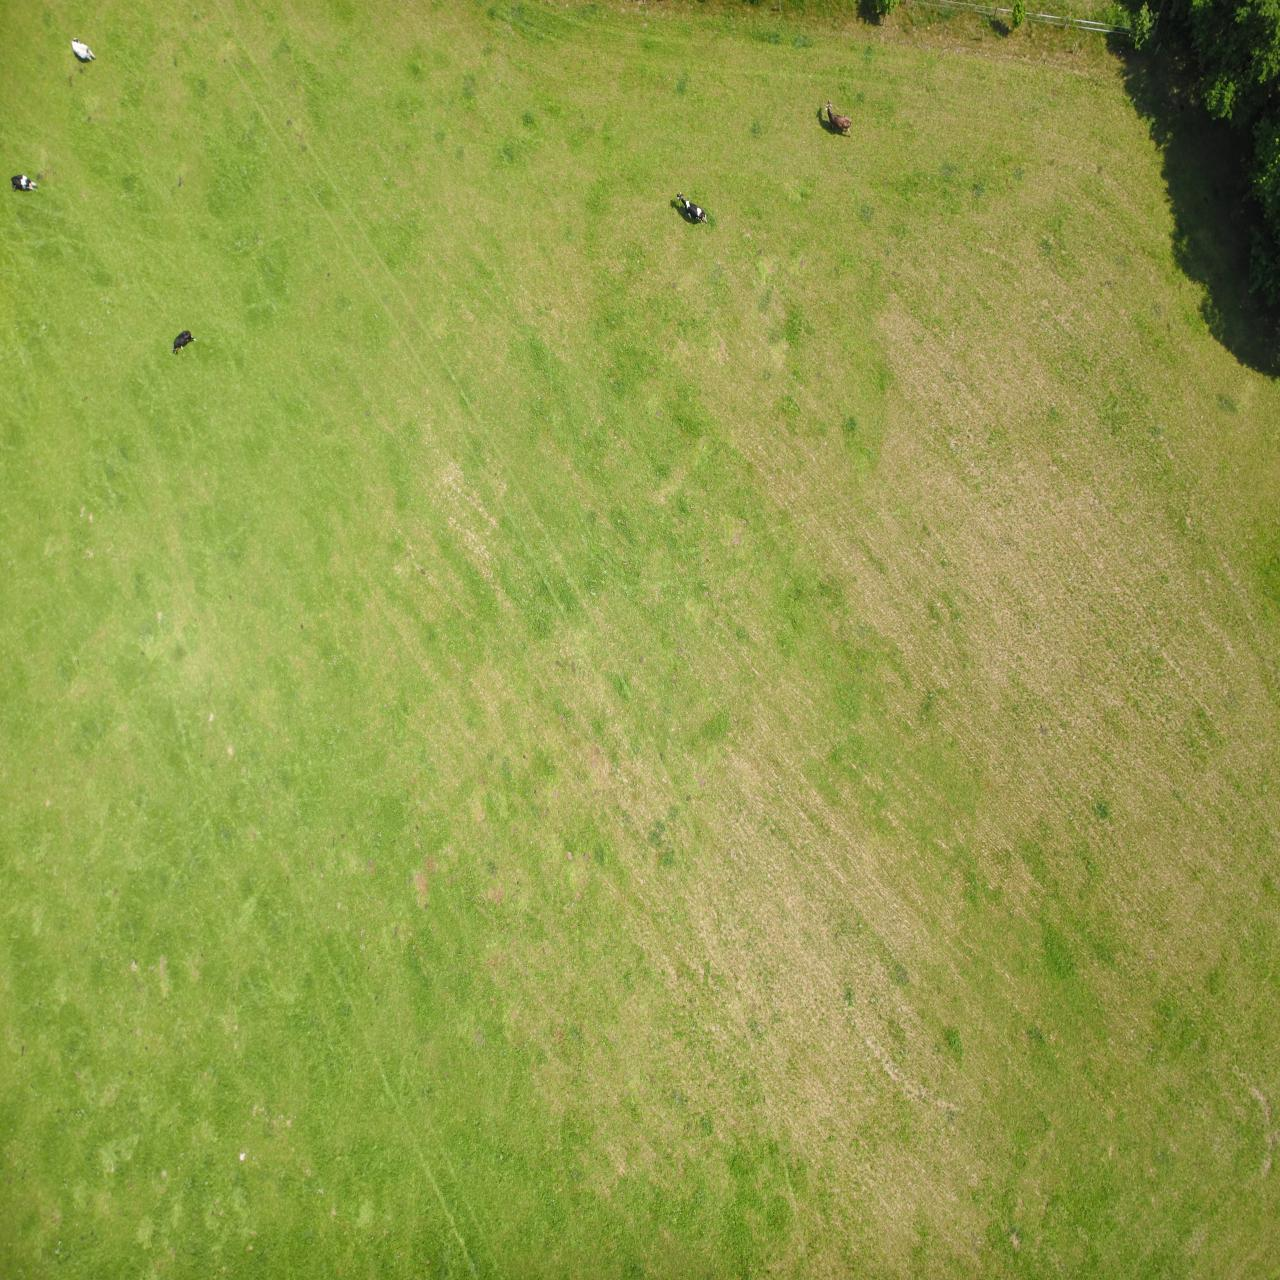cow: (573, 1055, 604, 1088), (429, 1144, 455, 1182), (1084, 925, 1108, 951), (1185, 1219, 1208, 1242), (1244, 1088, 1269, 1105)
